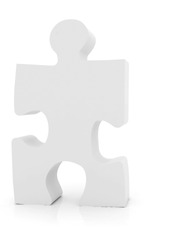puzzle piece: (7, 10, 139, 216)
